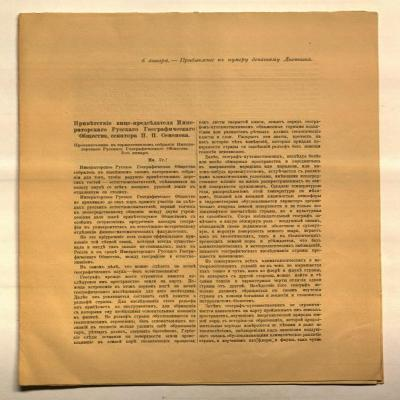document: (16, 9, 386, 388)
